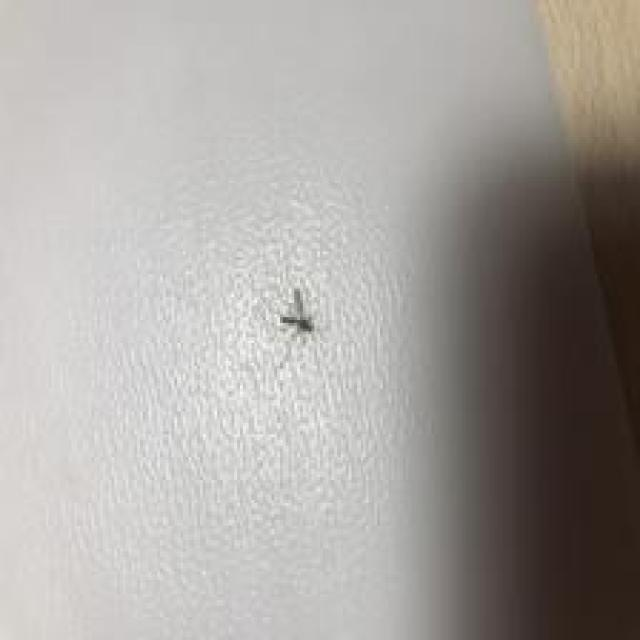Culex: (277, 286, 314, 337)
